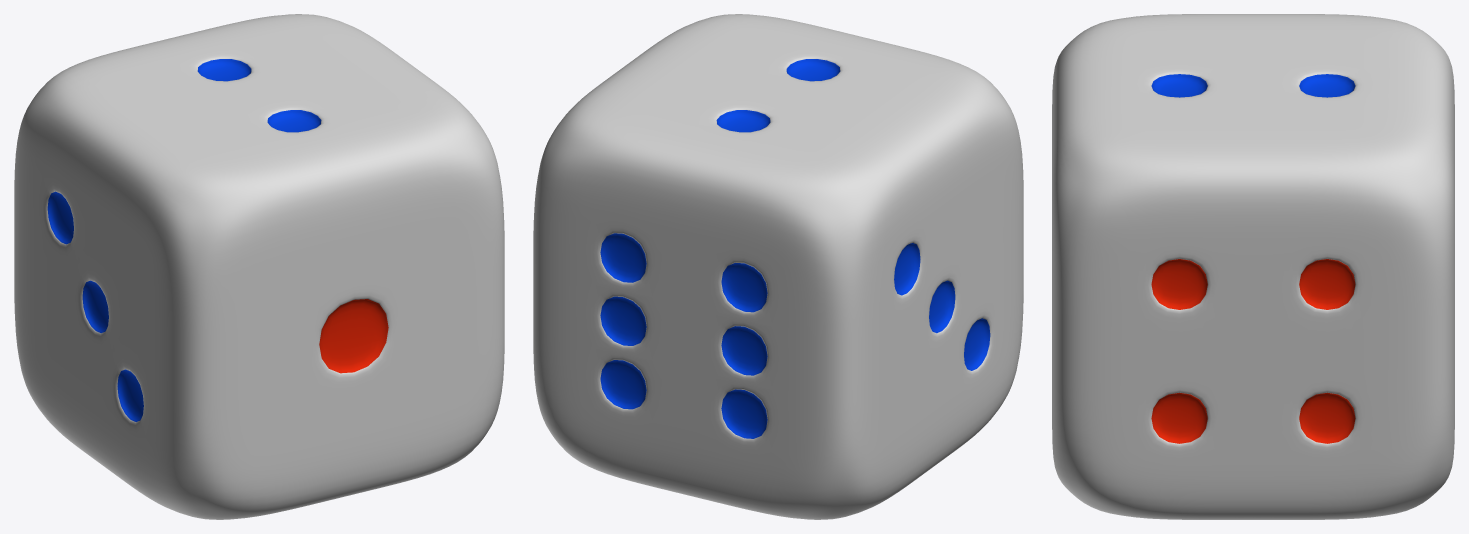
Rendered from Dice export.fbx.
3 renders of one model, left to right at view 1: azimuth 30°, elevation 25°; view 2: azimuth 150°, elevation 25°; view 3: azimuth 270°, elevation 25°, orthographic. The views are drawn at different scales.
Parts seen in each view (by area): view 1: Cube; view 2: Cube; view 3: Cube.
Part boxes in pixels (left/top/right/bottom): Cube: left=14, top=14, right=504, bottom=519; Cube: left=533, top=14, right=1023, bottom=519; Cube: left=1052, top=14, right=1454, bottom=519.
Size of the model in its own units: 200 by 200 by 200.
